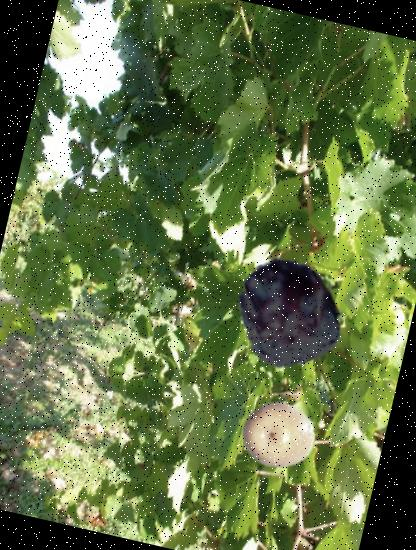Dates: (223, 246, 354, 377)
Kumquats: (235, 391, 322, 478)
